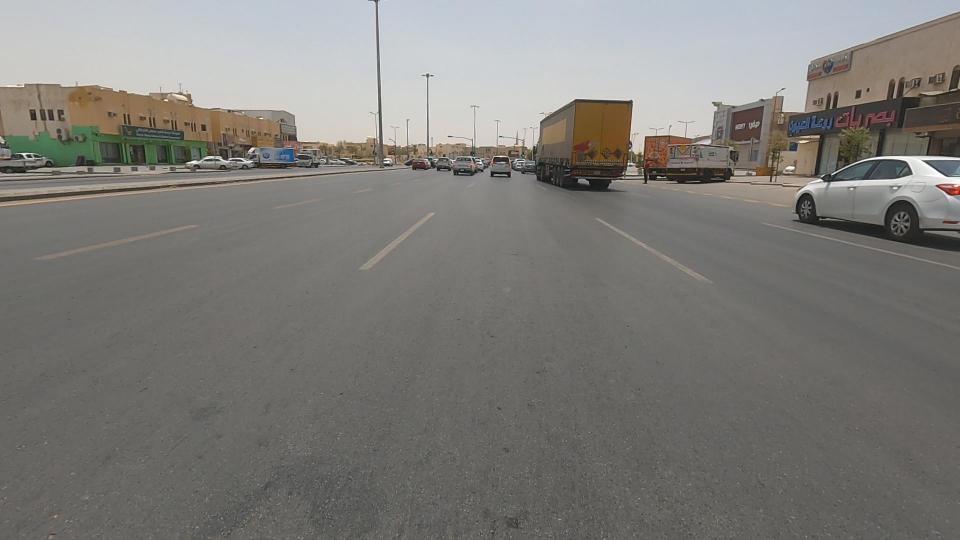BAD_BILLBOARD: (871, 82, 960, 143)
